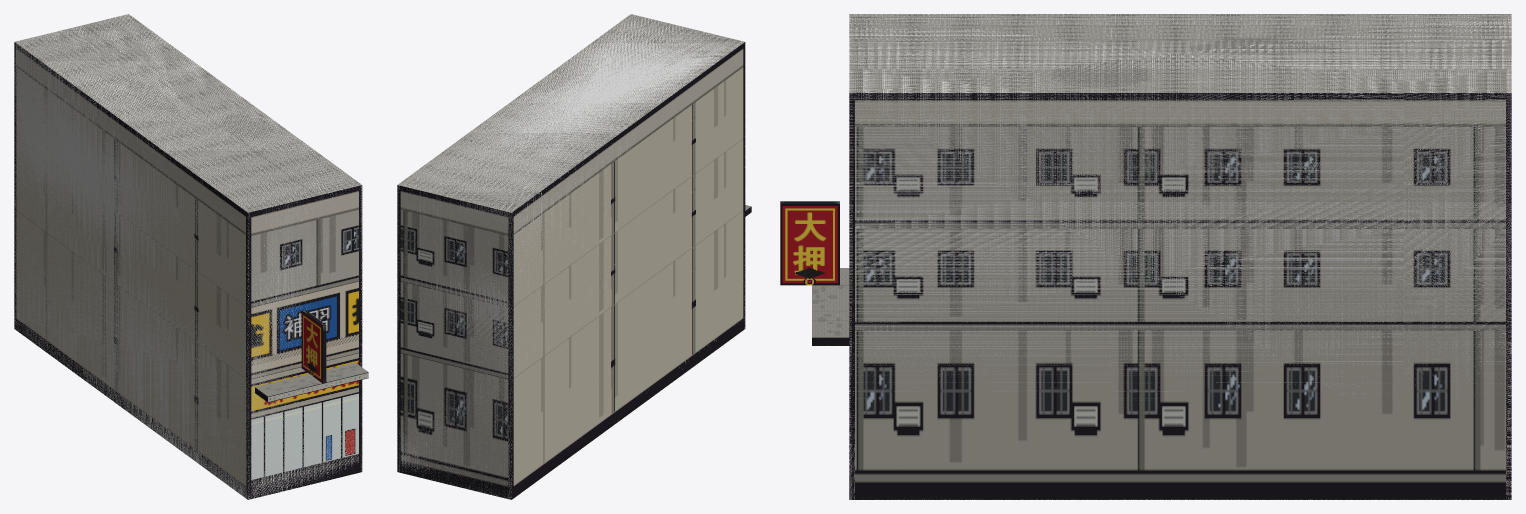
3 renders of one model, left to right at view 1: azimuth 30°, elevation 25°; view 2: azimuth 150°, elevation 25°; view 3: azimuth 270°, elevation 25°, orthographic. The views are drawn at different scales.
Parts seen in each view (by area): view 1: 19D-W05, COL_19D-W05_0; view 2: 19D-W05, COL_19D-W05_0; view 3: 19D-W05, COL_19D-W05_0.
Boxes of the visible parts, x1=… form: 19D-W05: x1=14, y1=14, x2=368, y2=499; COL_19D-W05_0: x1=14, y1=14, x2=362, y2=499; 19D-W05: x1=397, y1=14, x2=751, y2=499; COL_19D-W05_0: x1=397, y1=14, x2=745, y2=499; 19D-W05: x1=780, y1=14, x2=1511, y2=499; COL_19D-W05_0: x1=849, y1=14, x2=1511, y2=499.
Size of the model in its own units: 5 by 12 by 19.55.
1 material, 1 textured.
